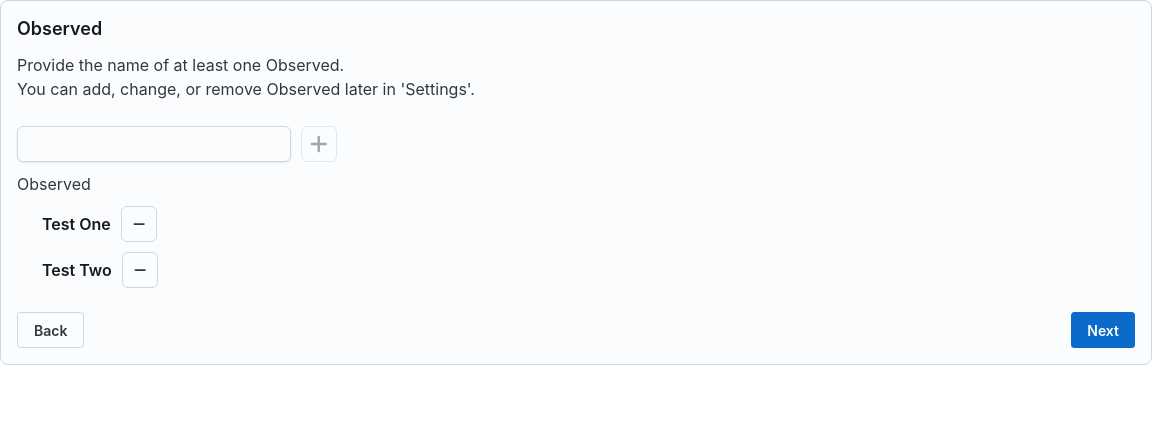
Test: ObservedCard test › should add
Type "Test Three" into the field at (154, 144), box x1=30 y1=127 x2=278 y2=161
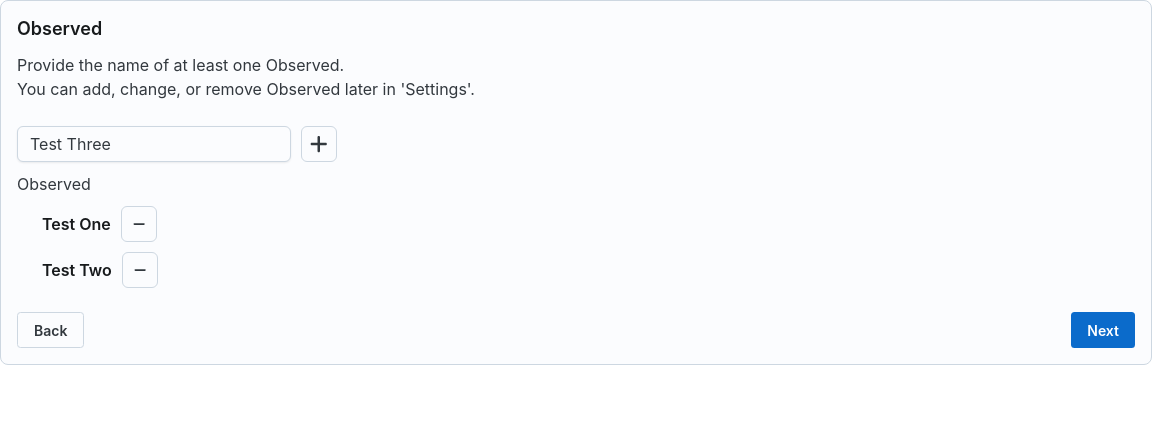
// Add button
Click the button named "Add Test Three" at (319, 144), box x1=301 y1=126 x2=337 y2=162
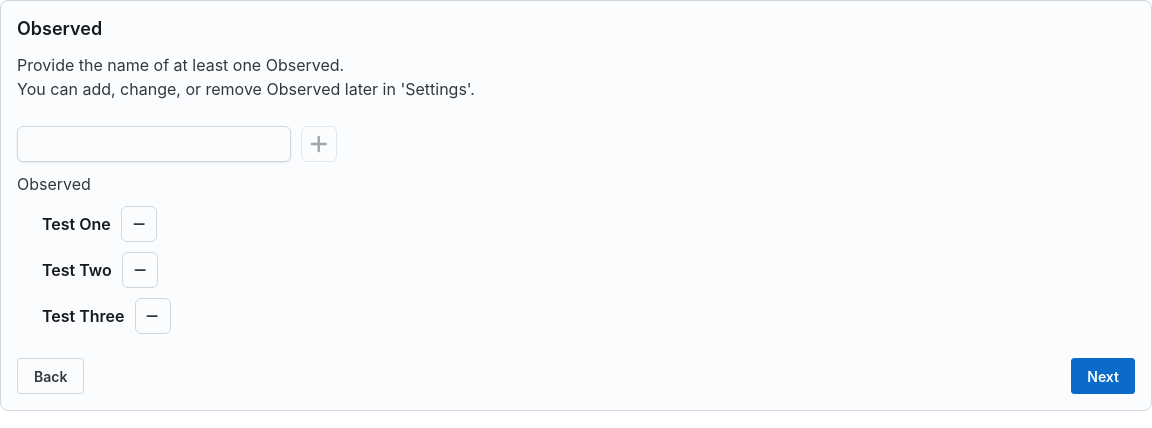
Expected: the number of buttons is 6, x1=301 y1=126 x2=337 y2=162; x1=121 y1=206 x2=157 y2=242; x1=122 y1=252 x2=158 y2=288; x1=134 y1=298 x2=170 y2=334; x1=17 y1=358 x2=84 y2=394; x1=1071 y1=358 x2=1135 y2=394
Expected: the button named "Remove Test Three" is shown, x1=134 y1=298 x2=170 y2=334
